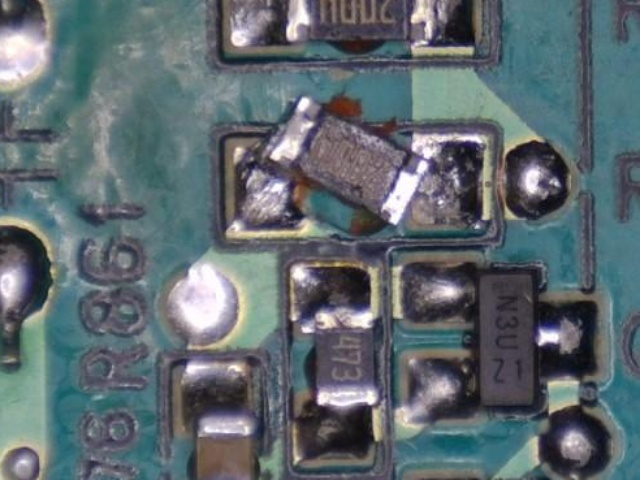pcb_defect: (231, 94, 489, 232), (291, 266, 377, 460), (181, 365, 258, 480)
